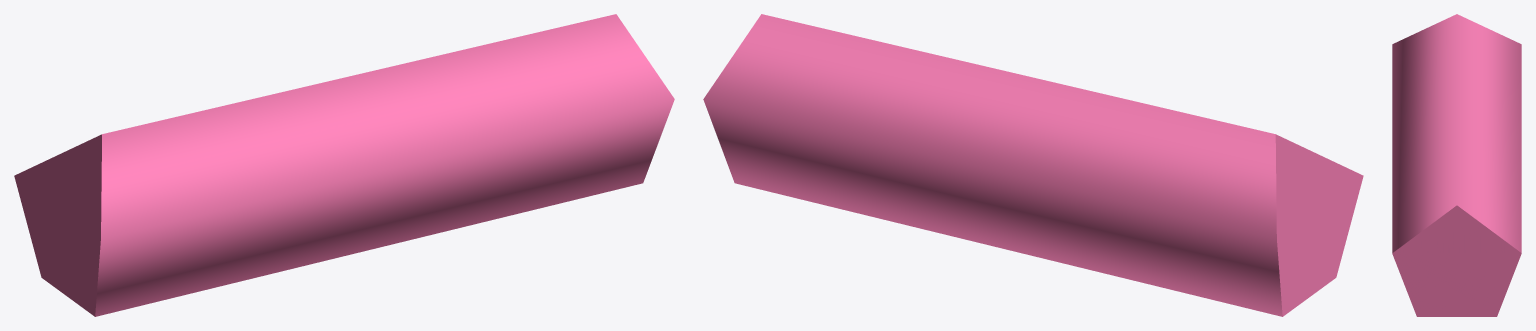
File: Crayon_C.FBX
3 renders of one model, left to right at view 1: azimuth 30°, elevation 25°; view 2: azimuth 150°, elevation 25°; view 3: azimuth 270°, elevation 25°, orthographic. The views are drawn at different scales.
Visible parts, largest first — view 1: Crayon_And_Chalk; view 2: Crayon_And_Chalk; view 3: Crayon_And_Chalk.
Part boxes in pixels (left/top/right/bottom): Crayon_And_Chalk: left=14, top=14, right=674, bottom=316; Crayon_And_Chalk: left=703, top=14, right=1363, bottom=316; Crayon_And_Chalk: left=1392, top=14, right=1521, bottom=316.
Size of the model in its own units: 29.04 by 7.49 by 7.61.
